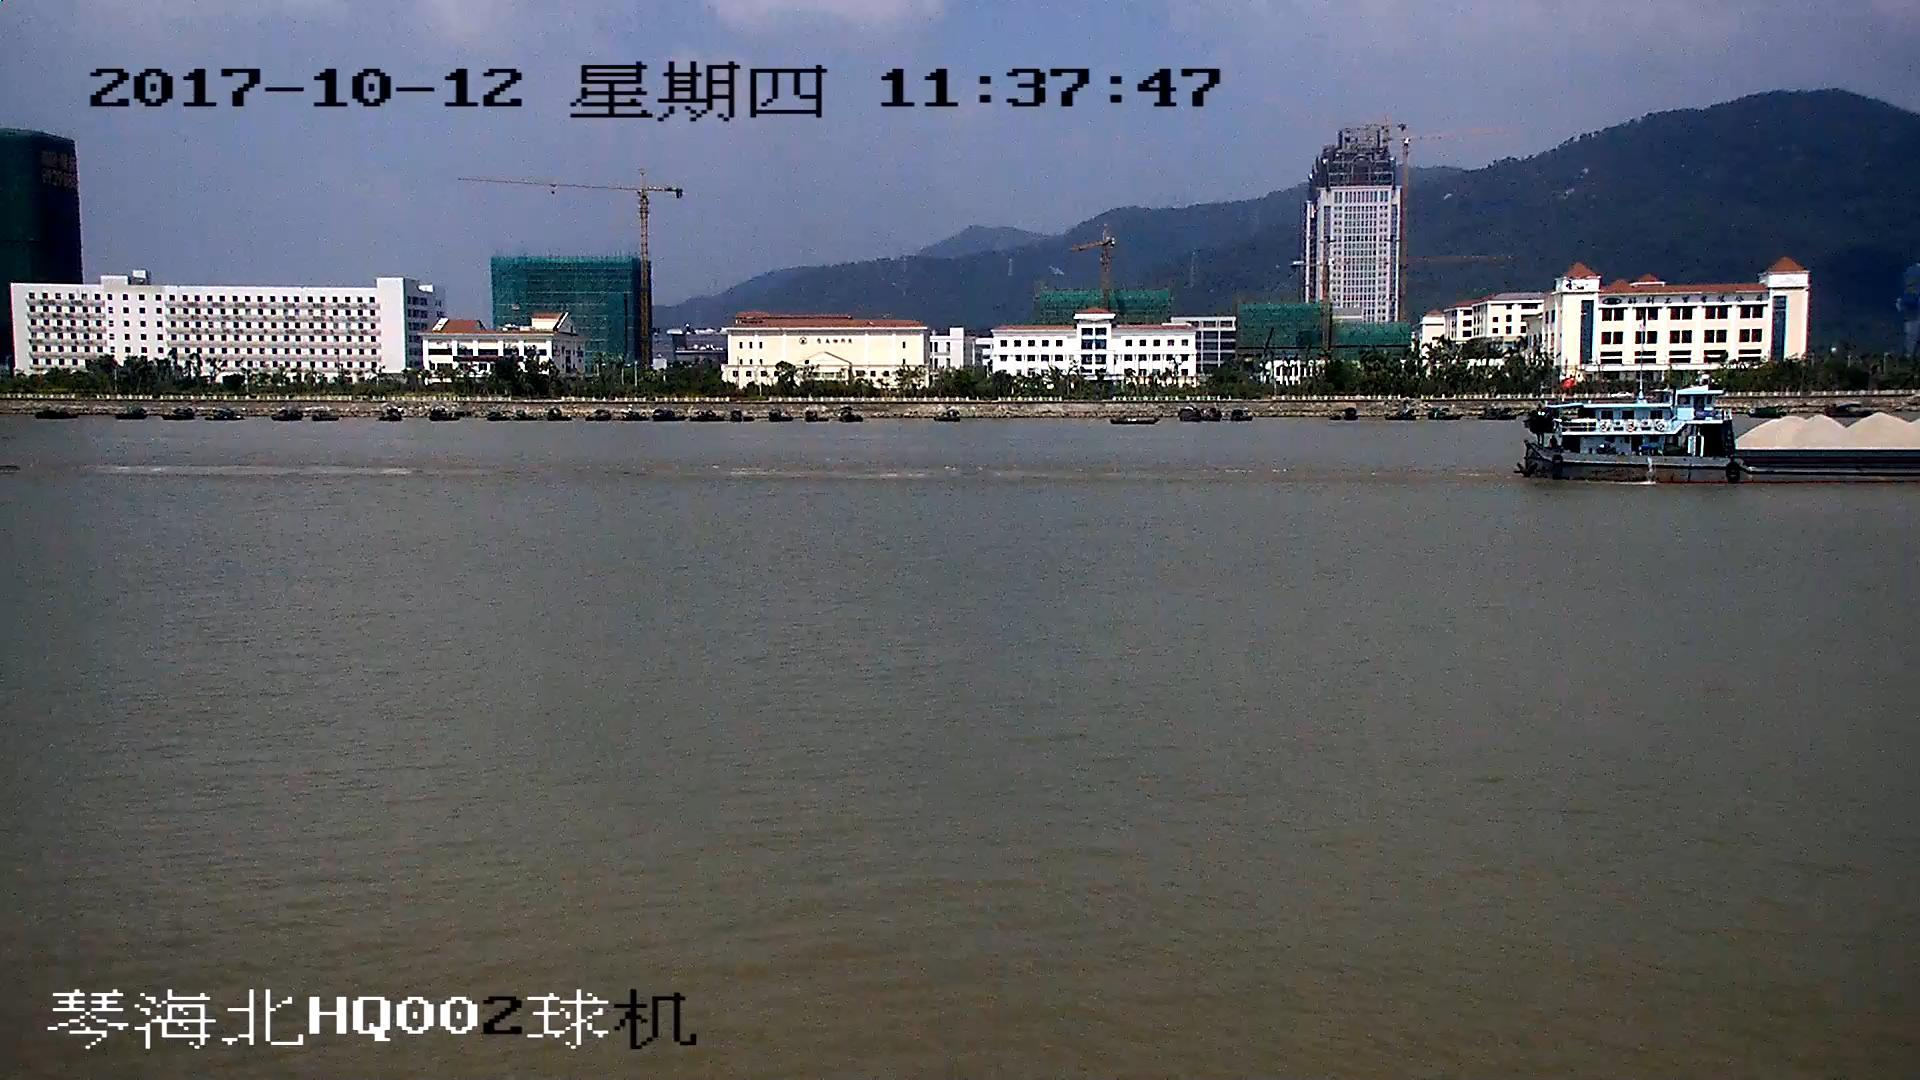Ship: (1526, 394, 1920, 479)
